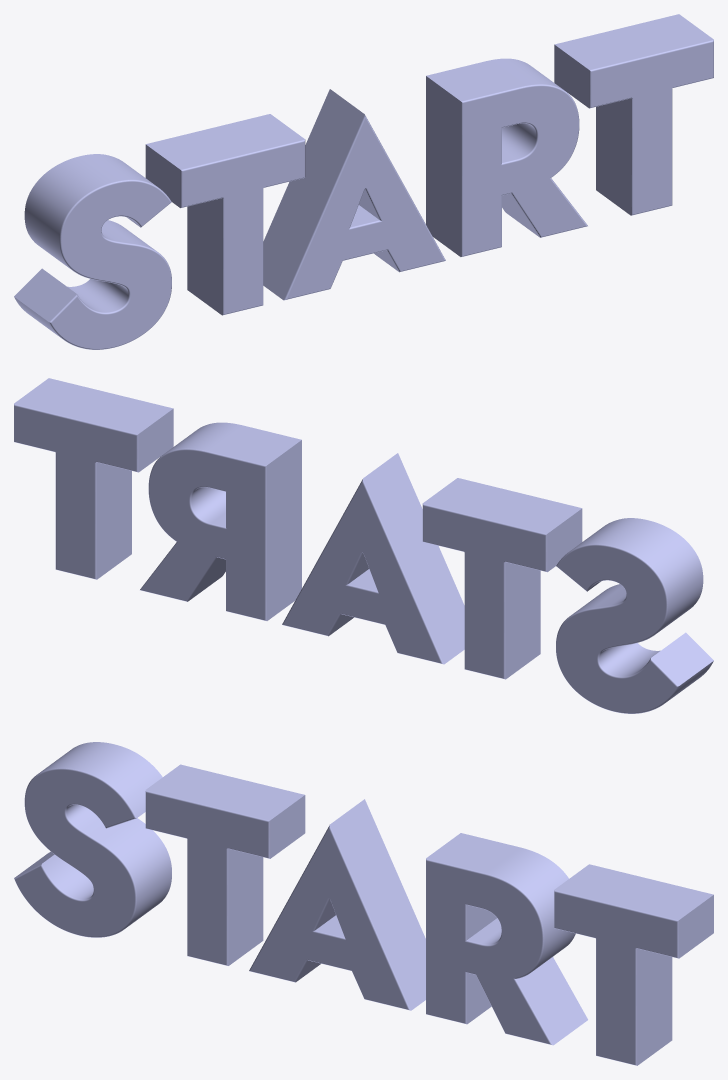
The model's file is start.glb.
3 renders of one model, top to bottom at view 1: azimuth 30°, elevation 25°; view 2: azimuth 150°, elevation 25°; view 3: azimuth 330°, elevation 25°, orthographic.
Parts seen in each view (by area): view 1: Text; view 2: Text; view 3: Text.
Part boxes in pixels (x1=…): Text: x1=14, y1=14, x2=713, y2=349; Text: x1=14, y1=378, x2=713, y2=713; Text: x1=14, y1=742, x2=713, y2=1065.
Size of the model in its own units: 14.14 by 3.5 by 1.35.
